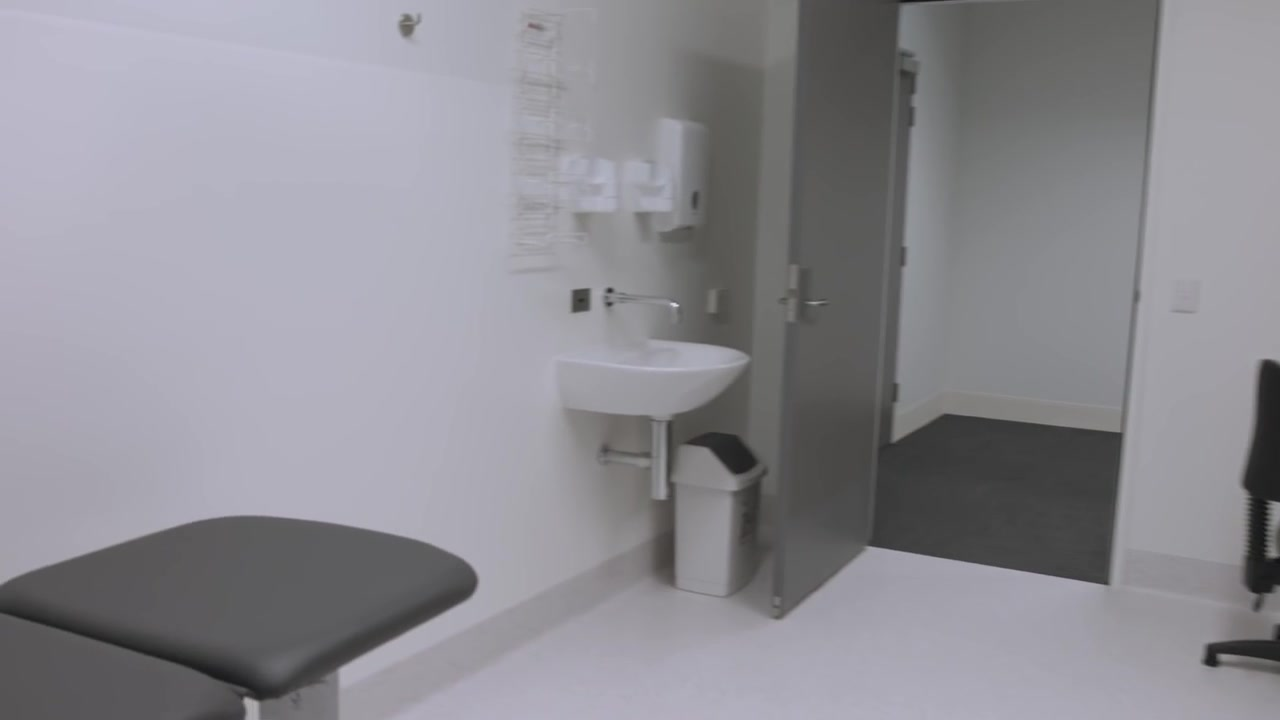dispenser: (648, 116, 708, 239)
door_handle: (786, 260, 832, 322)
exam_table: (1, 515, 480, 720)
faucet: (604, 290, 682, 327)
sink: (554, 342, 752, 377)
waste_bin: (669, 428, 769, 599)
